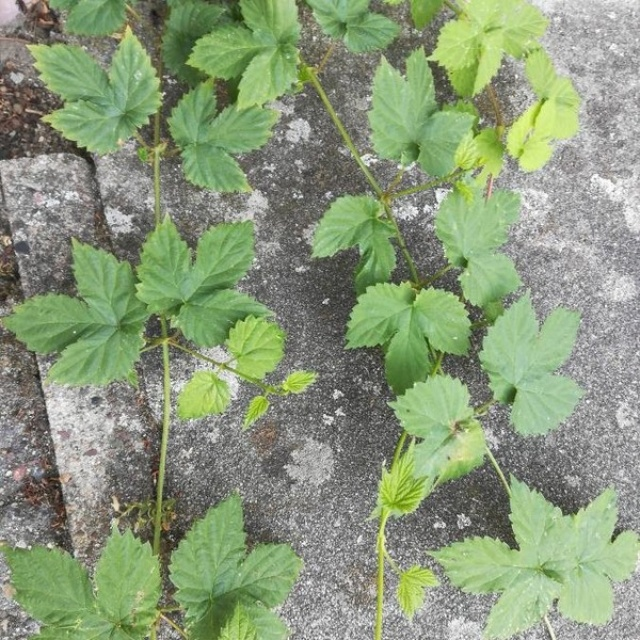obstacle: (309, 36, 602, 615), (44, 37, 290, 617)
